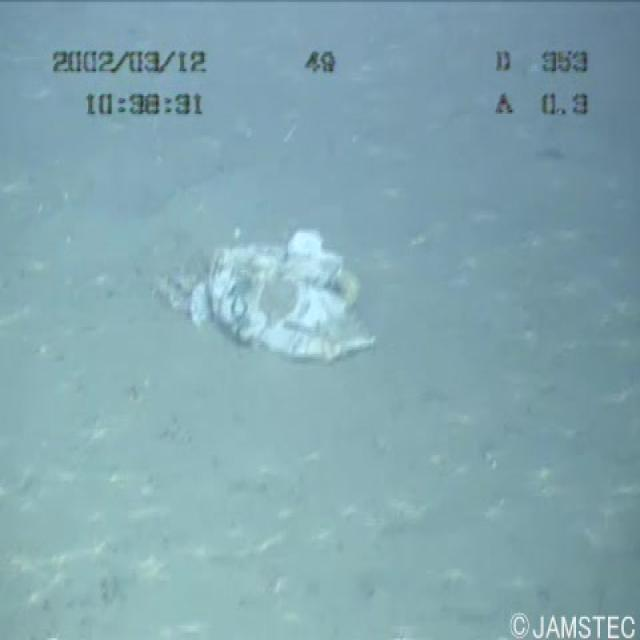plastic: (135, 220, 381, 378)
